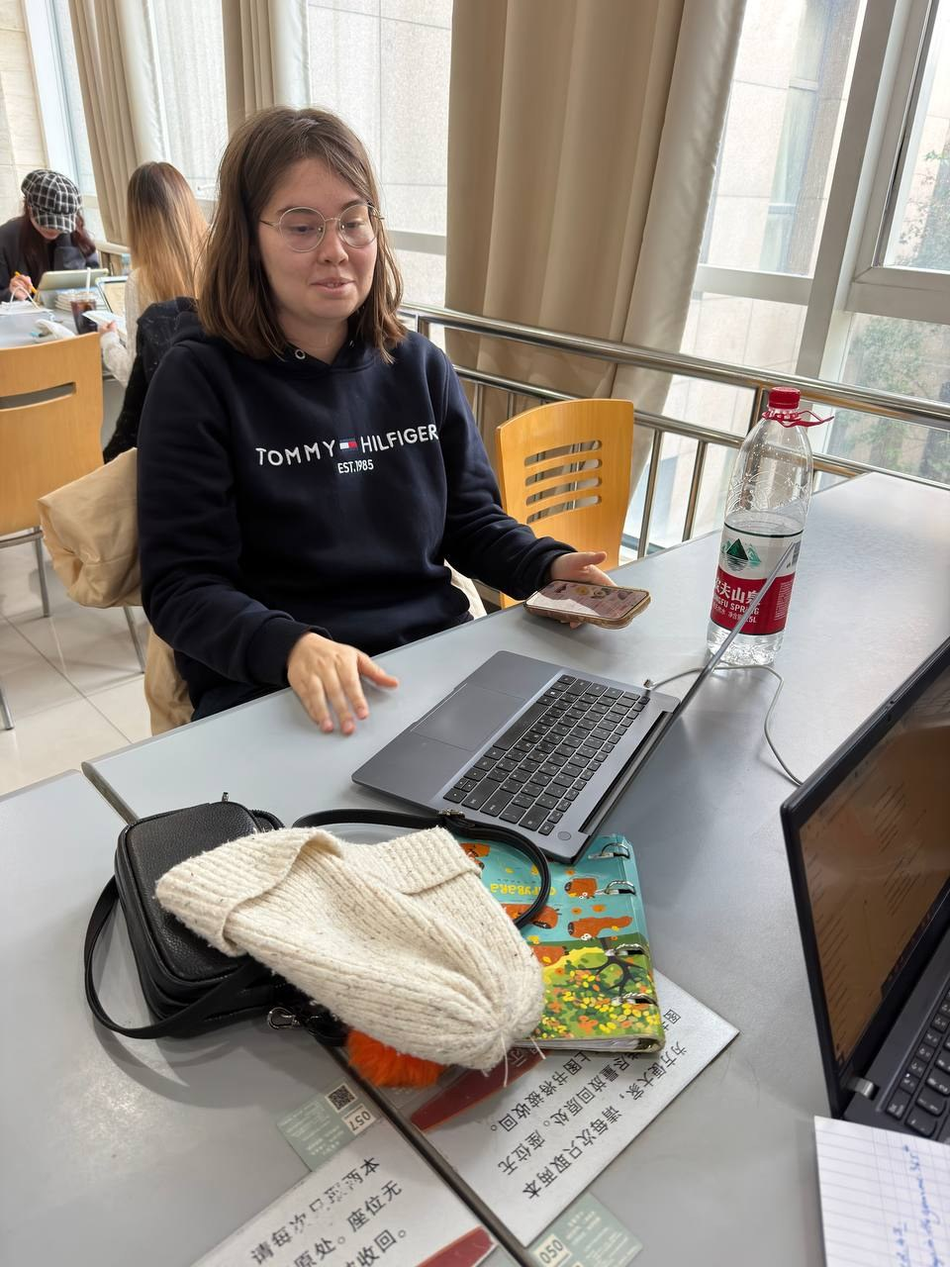cell phone: (525, 579, 651, 627)
laptop: (351, 566, 779, 865), (779, 636, 949, 1146), (97, 276, 128, 316)
